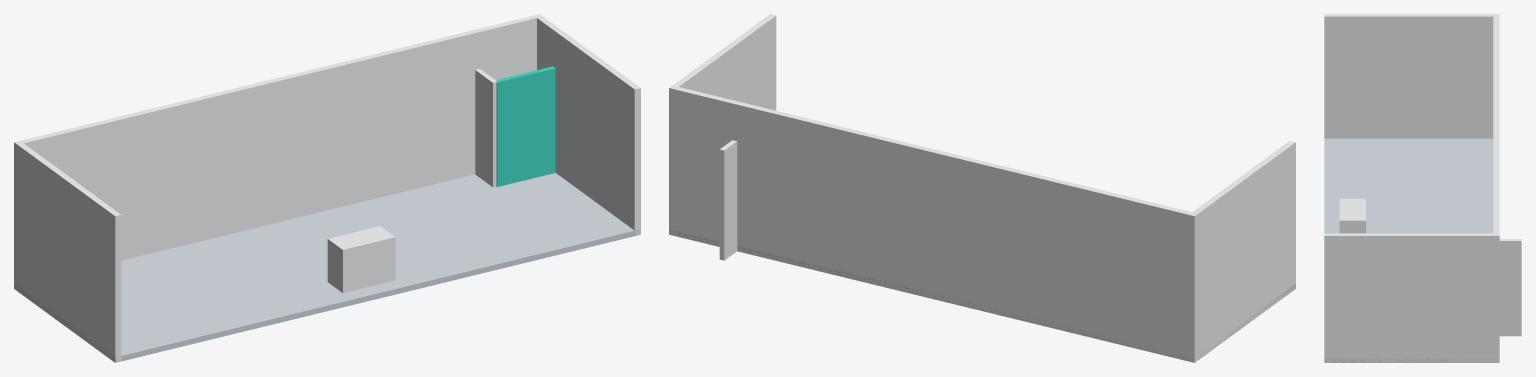
3 views of the same model, side by side, from view 1: azimuth 30°, elevation 25°; view 2: azimuth 150°, elevation 25°; view 3: azimuth 270°, elevation 25° (orthographic). The views are drawn at different scales.
Visible parts, largest first — view 1: Exhibition Booth Concept; view 2: Exhibition Booth Concept; view 3: Exhibition Booth Concept.
Boxes of the visible parts, bbox=[...] form: Exhibition Booth Concept: bbox=[14, 14, 640, 362]; Exhibition Booth Concept: bbox=[669, 14, 1295, 362]; Exhibition Booth Concept: bbox=[1324, 14, 1521, 362].
Size of the model in its own units: 12 by 3.2 by 4.51.
